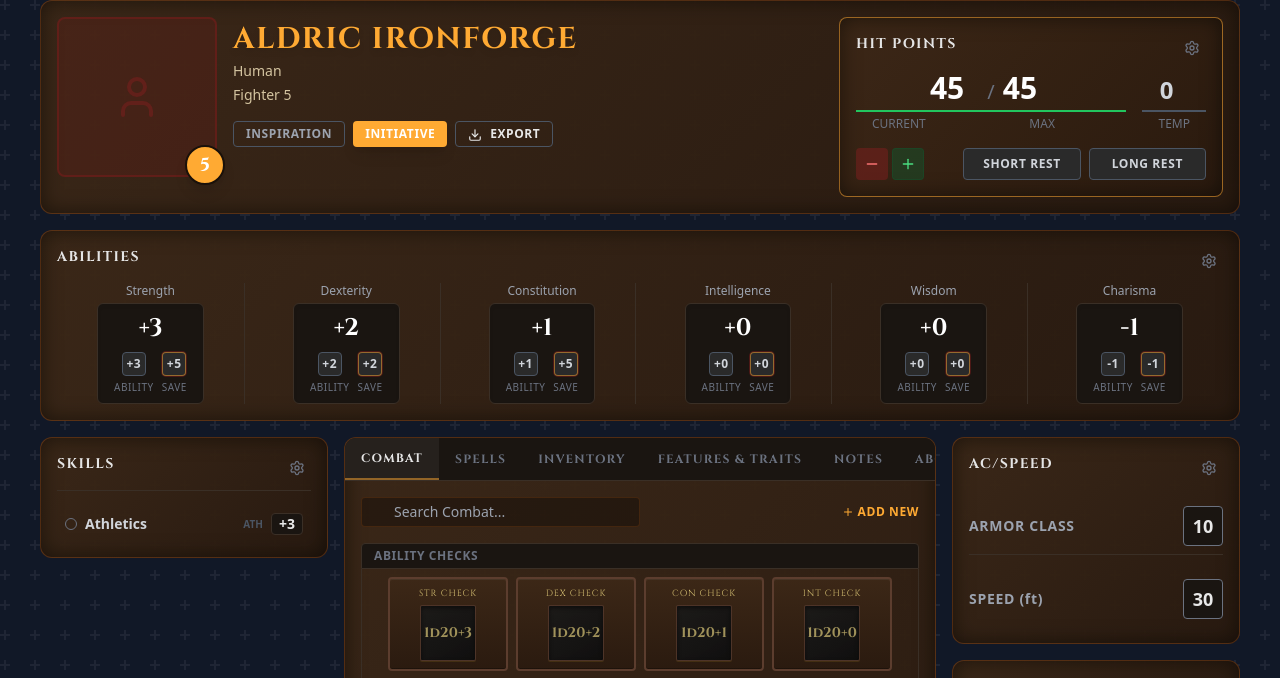
Test case: Inventory tab › shows character equipment items when INVENTORY tab is clicked
The image size is (1280, 678).
What coordinates should you click on to do the following:
click the button "INVENTORY"
I would click on:
 (582, 459)
Its box is [522,438,642,480].
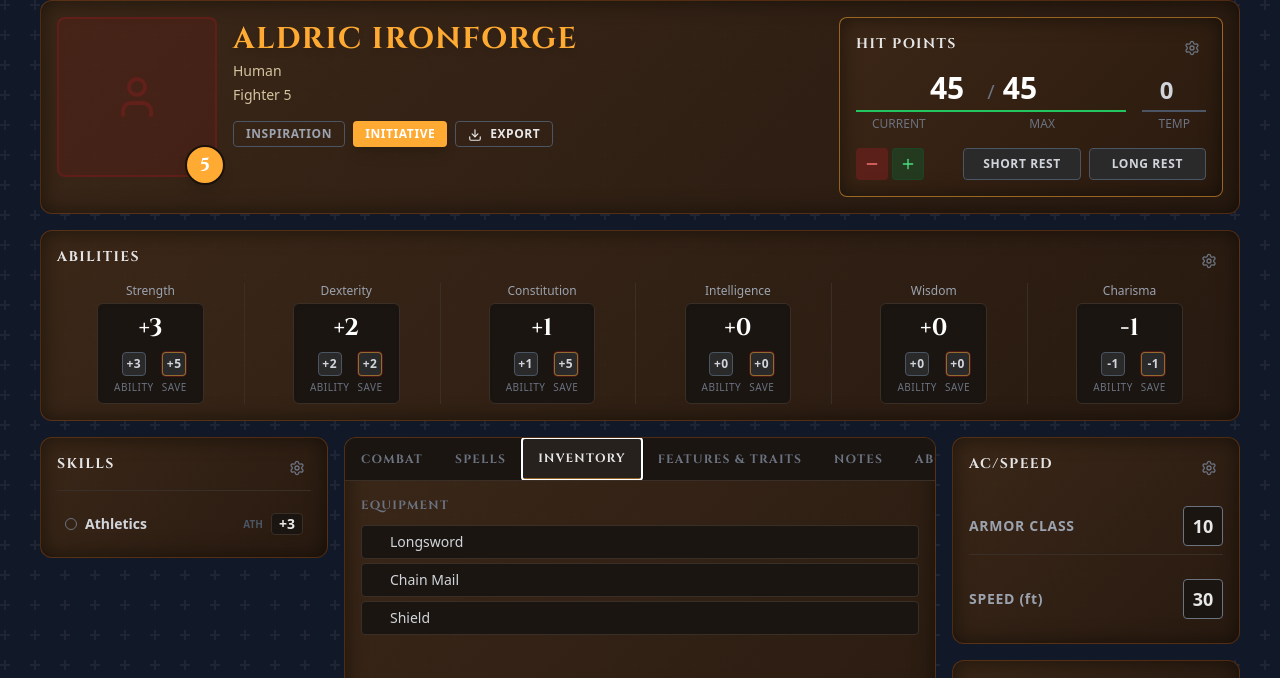
expect the list item "Longsword" is shown: met, box [361,525,919,559]
expect the list item "Chain Mail" is shown: met, box [361,563,919,597]
expect the list item "Shield" is shown: met, box [361,601,919,635]
